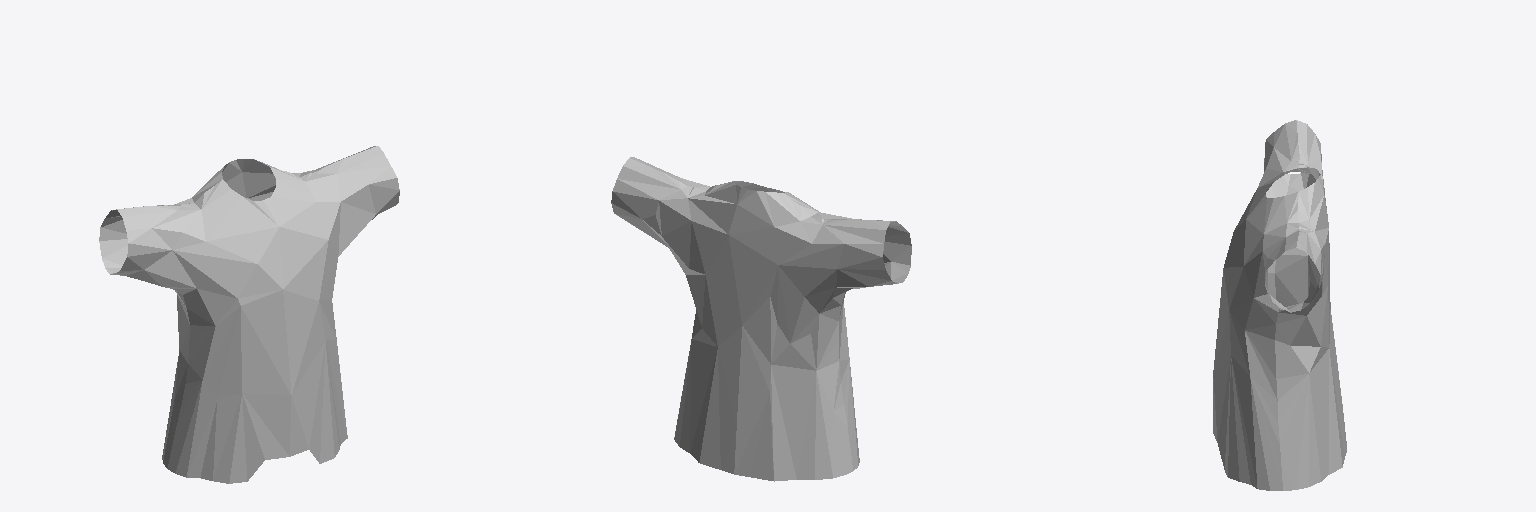
The model's file is jersey_up.obj.
3 views of the same model, side by side, from view 1: azimuth 30°, elevation 25°; view 2: azimuth 150°, elevation 25°; view 3: azimuth 270°, elevation 25° (orthographic).
Visible parts, largest first — view 1: Body; view 2: Body; view 3: Body.
Boxes of the visible parts, box(x1,y1,x2,y2) form: Body: box(99, 146, 399, 483); Body: box(611, 157, 911, 481); Body: box(1213, 120, 1346, 490).
Bounding box in the file's own units: 0.6515 × 0.8663 × 0.2691.